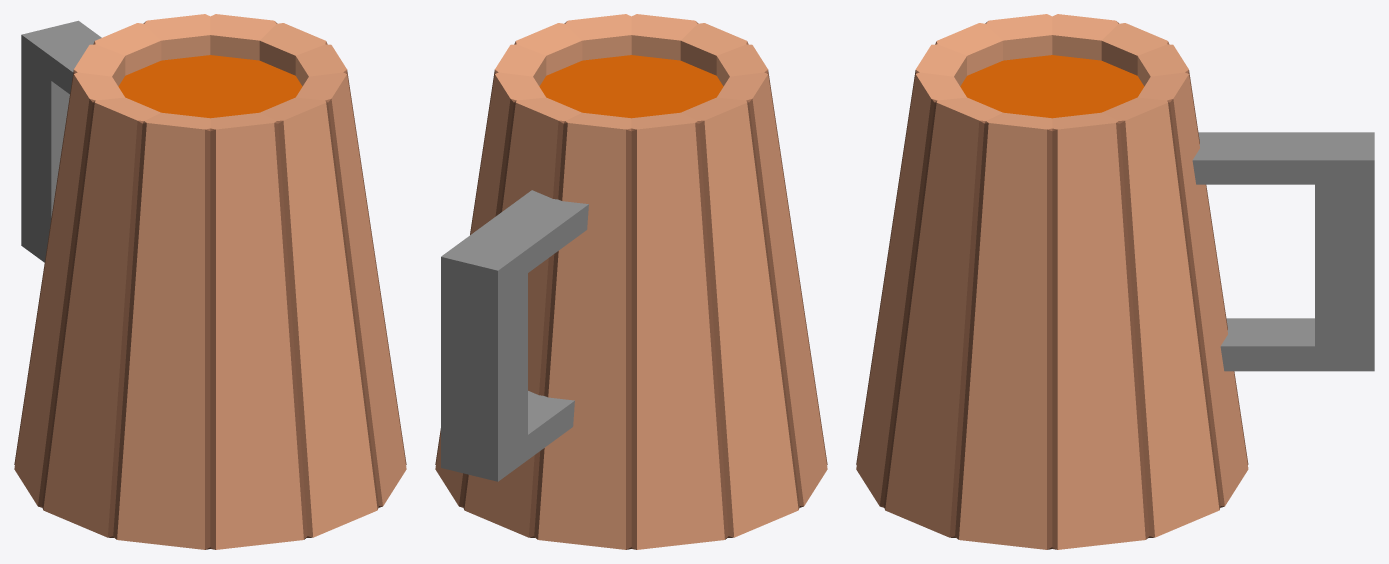
File: BEER2.fbx
3 renders of one model, left to right at view 1: azimuth 30°, elevation 25°; view 2: azimuth 150°, elevation 25°; view 3: azimuth 270°, elevation 25°, orthographic.
Visible parts, largest first — view 1: Cylinder; view 2: Cylinder; view 3: Cylinder.
Part boxes in pixels (x1,y1,x2,y2): Cylinder: (14, 14, 406, 549); Cylinder: (435, 14, 827, 549); Cylinder: (856, 14, 1374, 549).
Bounding box in the file's own units: 337 × 379 × 445.
